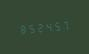eight: (17, 22, 25, 35)
five: (26, 21, 34, 34), (54, 19, 62, 32)
four: (45, 19, 53, 33)
seven: (63, 18, 71, 31)
two: (36, 20, 44, 34)
